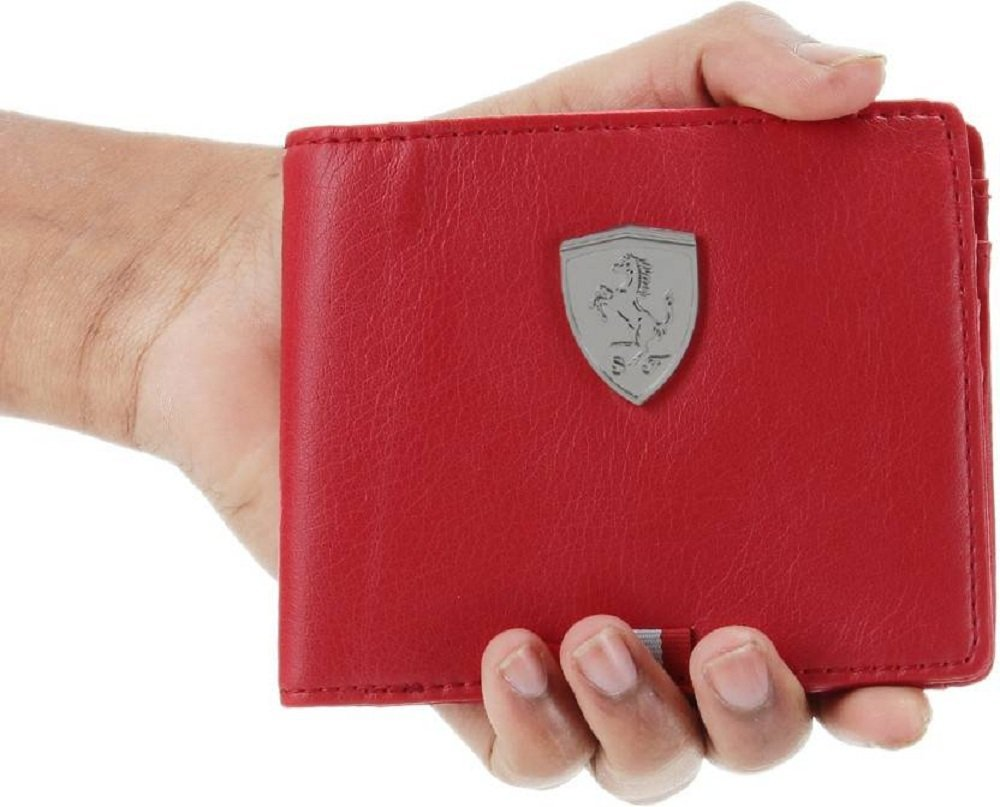monedero: (273, 96, 1000, 712)
